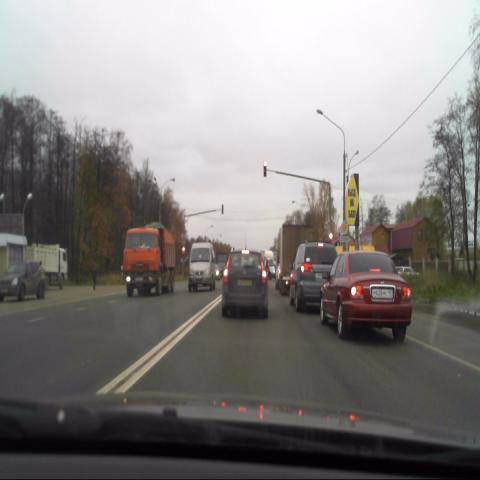2_1: (340, 220, 348, 234)
